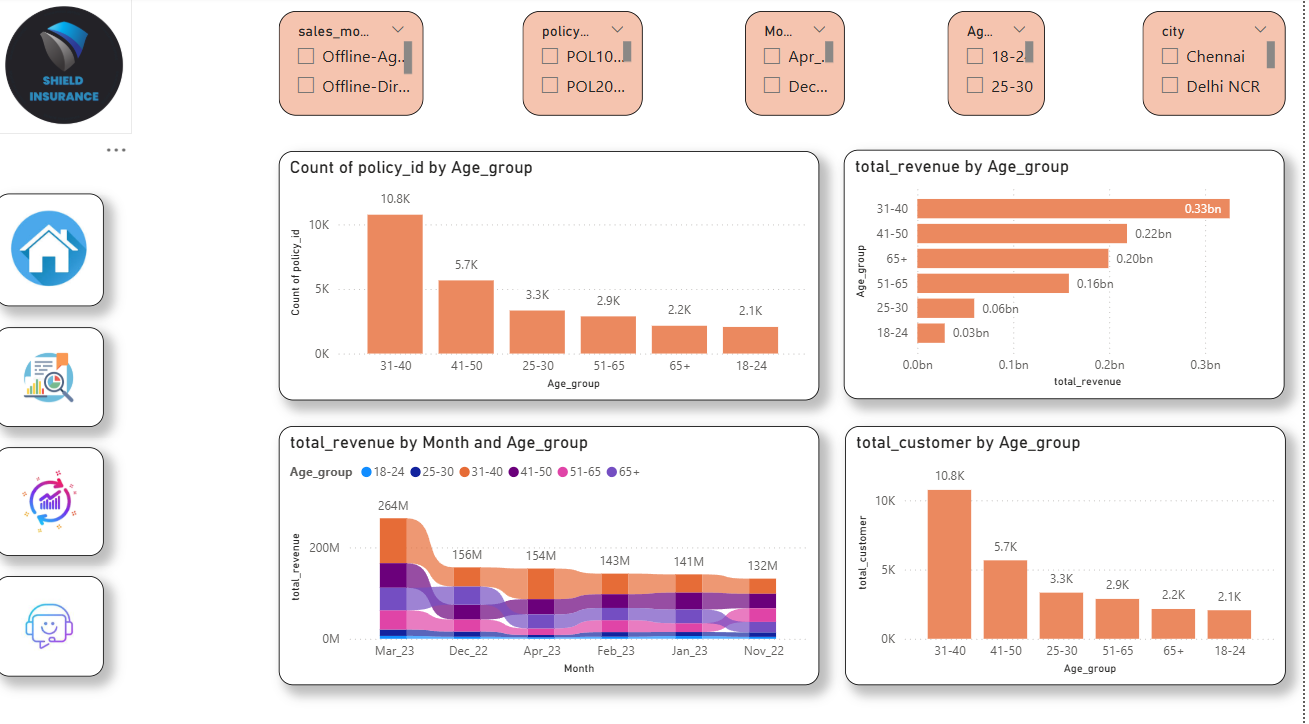

The page's visual inventory and layout, read from the dashboard file:
{"tool":"powerbi","page":{"name":"Age Group_analysis","canvas":[1280,720],"ordinal":3},"visuals":[{"type":"clusteredBarChart","fields":{"Y":["dim_customer.total_revenue"],"Category":["dim_policies.Age_group"]},"box":[830.6,150.7,431.2,243.8],"z":0},{"type":"columnChart","fields":{"Category":["dim_policies.Age_group"],"Y":["dim_customer.total_customer"]},"box":[831.2,421.2,431.2,253.8],"z":1000},{"type":"ribbonChart","fields":{"Category":["dim_policies.Month"],"Y":["dim_customer.total_revenue"],"Series":["dim_policies.Age_group"]},"box":[277.5,421.2,528.8,253.8],"z":2000},{"type":"slicer","fields":{"Values":["dim_customer.city"]},"box":[1122.5,15,140,102.5],"z":3000},{"type":"slicer","fields":{"Values":["dim_policies.Age_group"]},"box":[931.2,15,95,102.5],"z":4000},{"type":"slicer","fields":{"Values":["dim_policies.mmm_yy"]},"box":[733.8,15,97.5,102.5],"z":5000},{"type":"slicer","fields":{"Values":["dim_policies.policy_id"]},"box":[516.2,15,117.5,102.5],"z":6000},{"type":"slicer","fields":{"Values":["dim_policies.sales_mode"]},"box":[277.5,15,141.2,102.5],"z":7000},{"type":"lineStackedColumnComboChart","fields":{"Category":["dim_policies.Age_group"],"Y":["CountNonNull(dim_policies.policy_id)"]},"box":[277.5,151.2,528.8,243.8],"z":8000},{"type":"image","box":[0,193.8,106.2,110],"z":9000},{"type":"image","box":[0,441.2,106.2,106.2],"z":10000},{"type":"image","box":[0,323.8,106.2,97.5],"z":11000},{"type":"image","box":[0,567.5,106.2,98.8],"z":12000},{"type":"image","box":[0,0,135,135],"z":13000}]}

Visuals, with their boxes in screenshot pixels (x1, y1, x2, y2):
clusteredBarChart - dim_customer.total_revenue x dim_policies.Age_group: bbox(842, 144, 1285, 395)
columnChart - dim_policies.Age_group x dim_customer.total_customer: bbox(843, 422, 1285, 682)
ribbonChart - dim_policies.Month x dim_customer.total_revenue: bbox(275, 422, 817, 682)
slicer - dim_customer.city: bbox(1142, 5, 1285, 110)
slicer - dim_policies.Age_group: bbox(945, 5, 1043, 110)
slicer - dim_policies.mmm_yy: bbox(743, 5, 843, 110)
slicer - dim_policies.policy_id: bbox(520, 5, 640, 110)
slicer - dim_policies.sales_mode: bbox(275, 5, 419, 110)
lineStackedColumnComboChart - dim_policies.Age_group x CountNonNull(dim_policies.policy_id): bbox(275, 145, 817, 395)
image: bbox(0, 189, 99, 302)
image: bbox(0, 443, 99, 552)
image: bbox(0, 322, 99, 422)
image: bbox(0, 572, 99, 674)
image: bbox(0, 0, 128, 128)
